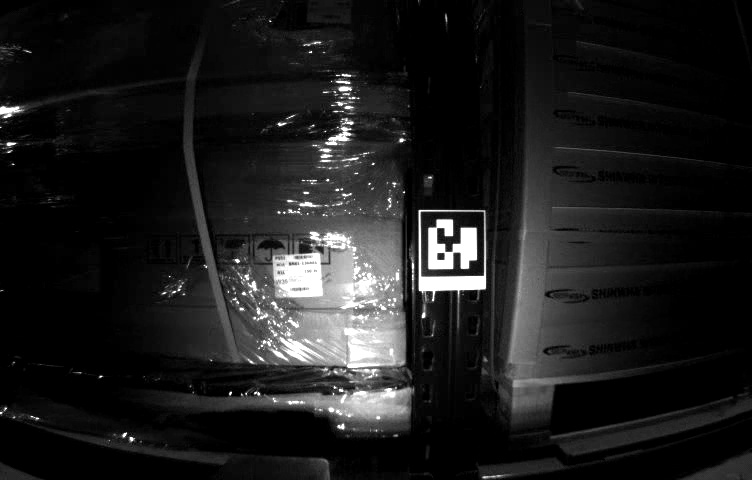True Barcode: (271, 253, 325, 298)
